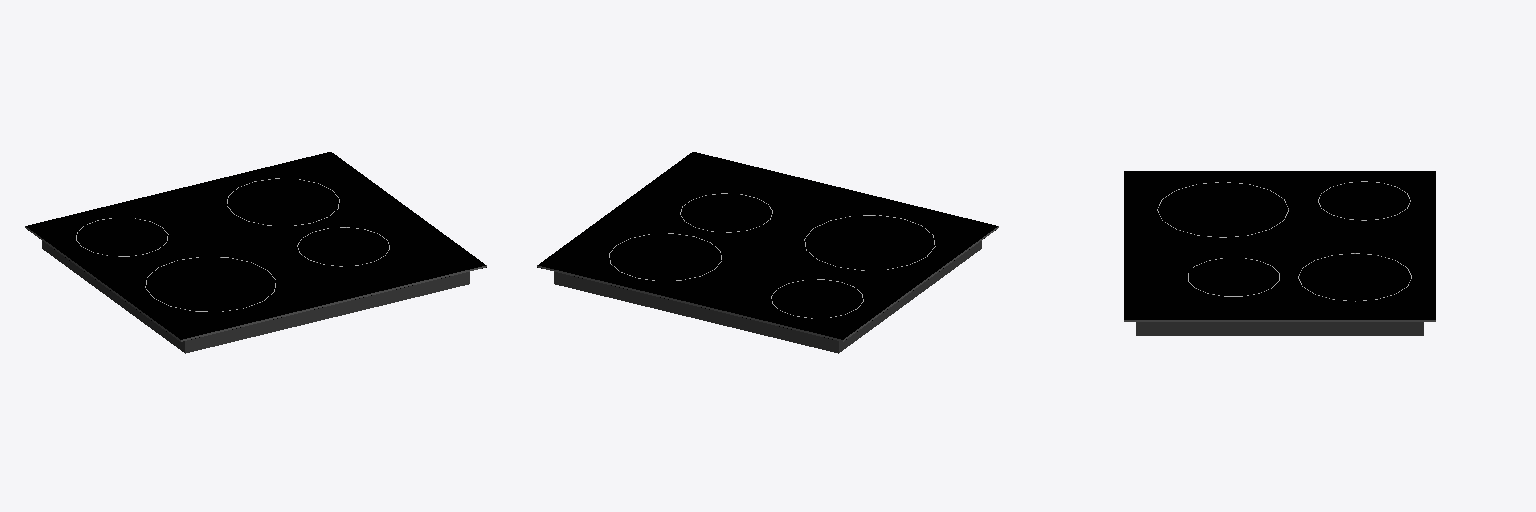
The model's file is IKEA.ART.10222821.obj.
3 views of the same model, side by side, from view 1: azimuth 30°, elevation 25°; view 2: azimuth 150°, elevation 25°; view 3: azimuth 270°, elevation 25° (orthographic).
Parts seen in each view (by area): view 1: model; view 2: model; view 3: model.
Part boxes in pixels (bbox=[...]): model: bbox=[25, 152, 486, 353]; model: bbox=[537, 152, 998, 353]; model: bbox=[1124, 171, 1435, 335].
Size of the model in its own units: 0.59 by 0.0381 by 0.52.